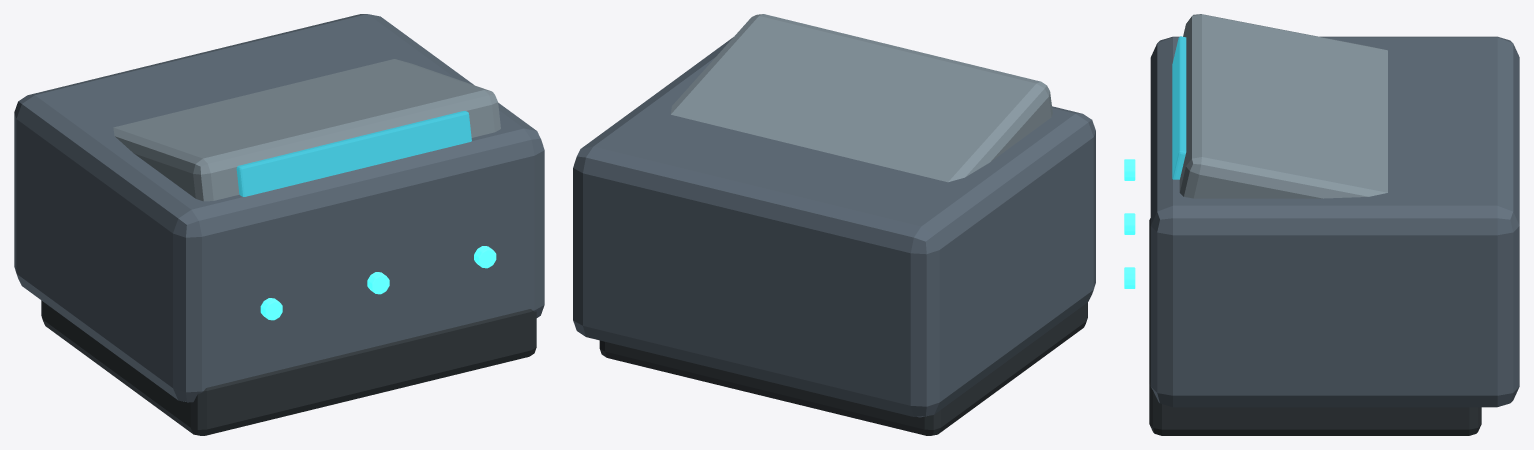
Rendered from control-console.glb.
3 views of the same model, side by side, from view 1: azimuth 30°, elevation 25°; view 2: azimuth 150°, elevation 25°; view 3: azimuth 270°, elevation 25° (orthographic). The views are drawn at different scales.
Parts seen in each view (by area): view 1: Visual_Console_Body, Visual_Console_Neck, Visual_Console_Base, Visual_Console_Screen, Visual_Merged_ZA_ControlConsole_Root_Zero_Cyan_Emissive; view 2: Visual_Console_Body, Visual_Console_Neck, Visual_Console_Base; view 3: Visual_Console_Body, Visual_Console_Neck, Visual_Console_Base, Visual_Console_Screen, Visual_Merged_ZA_ControlConsole_Root_Zero_Cyan_Emissive.
Boxes of the visible parts, <box> form: Visual_Console_Body: <box>14,14,544,402</box>; Visual_Console_Neck: <box>113,59,500,201</box>; Visual_Console_Base: <box>41,300,536,435</box>; Visual_Console_Screen: <box>236,111,471,196</box>; Visual_Merged_ZA_ControlConsole_Root_Zero_Cyan_Emissive: <box>260,246,496,320</box>; Visual_Console_Body: <box>573,37,1095,417</box>; Visual_Console_Neck: <box>670,14,1052,182</box>; Visual_Console_Base: <box>599,302,1087,435</box>; Visual_Console_Body: <box>1150,36,1519,407</box>; Visual_Console_Neck: <box>1179,14,1387,198</box>; Visual_Console_Base: <box>1149,218,1481,435</box>; Visual_Console_Screen: <box>1172,36,1186,179</box>; Visual_Merged_ZA_ControlConsole_Root_Zero_Cyan_Emissive: <box>1124,159,1135,288</box>.
Size of the model in its own units: 1.8 by 1.2 by 1.61.
